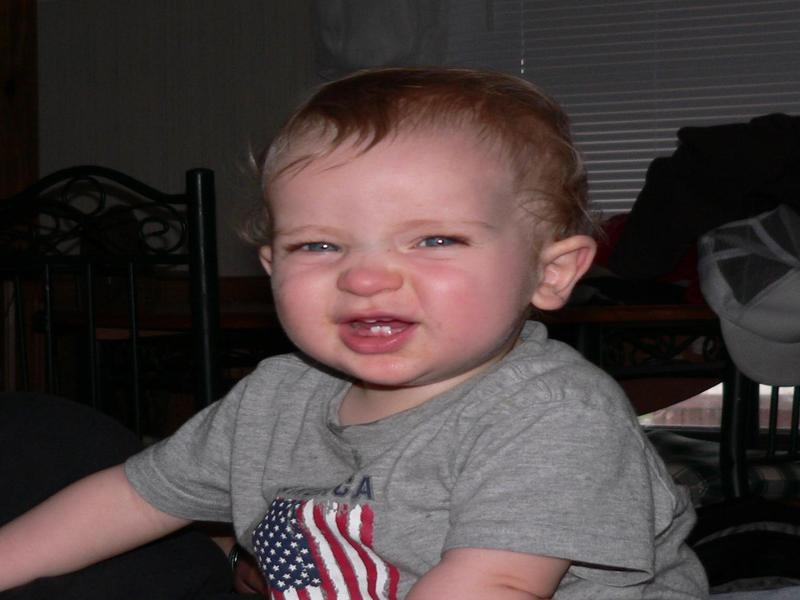person: (1, 58, 716, 598)
